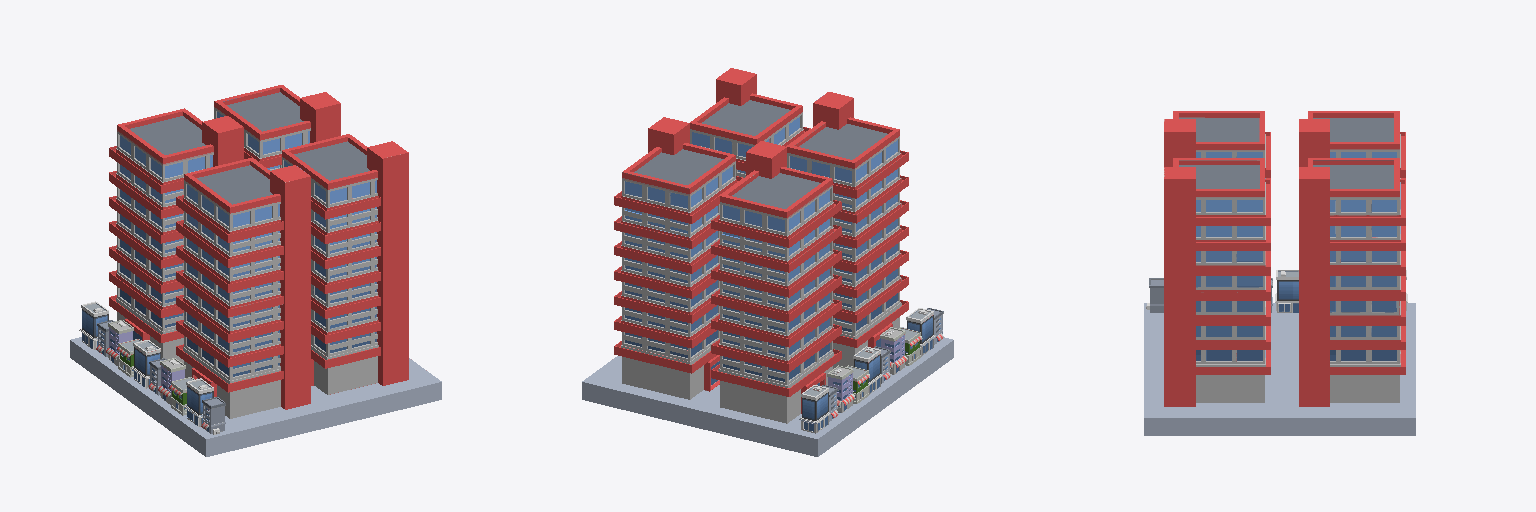
3 renders of one model, left to right at view 1: azimuth 30°, elevation 25°; view 2: azimuth 150°, elevation 25°; view 3: azimuth 270°, elevation 25°, orthographic.
Visible parts, largest first — view 1: Object127; view 2: Object127; view 3: Object127.
Boxes of the visible parts, <box> form: Object127: <box>70,85,441,456</box>; Object127: <box>582,68,953,456</box>; Object127: <box>1144,111,1415,435</box>.
Size of the model in its own units: 2252 by 2239 by 2252.
Materials: 1 (1 with a texture image).